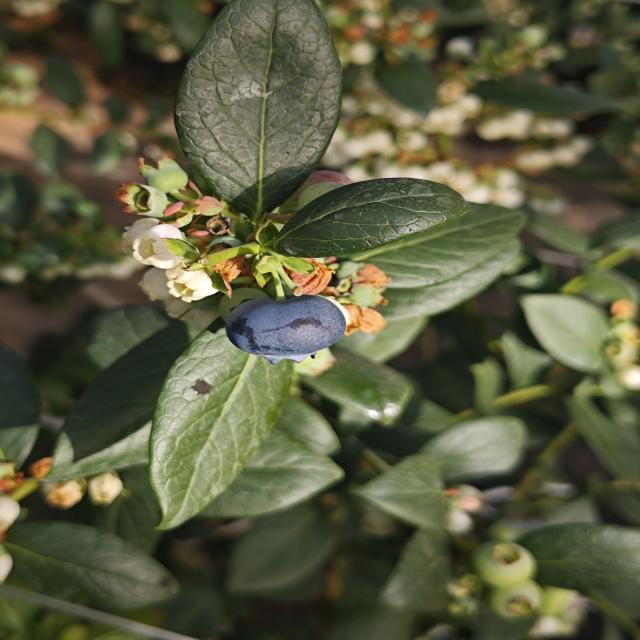ripe: (222, 293, 349, 366)
